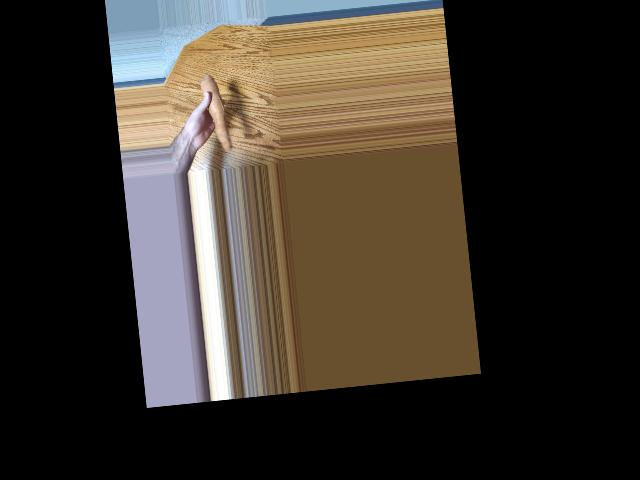sweet_potato: (206, 75, 229, 152)
